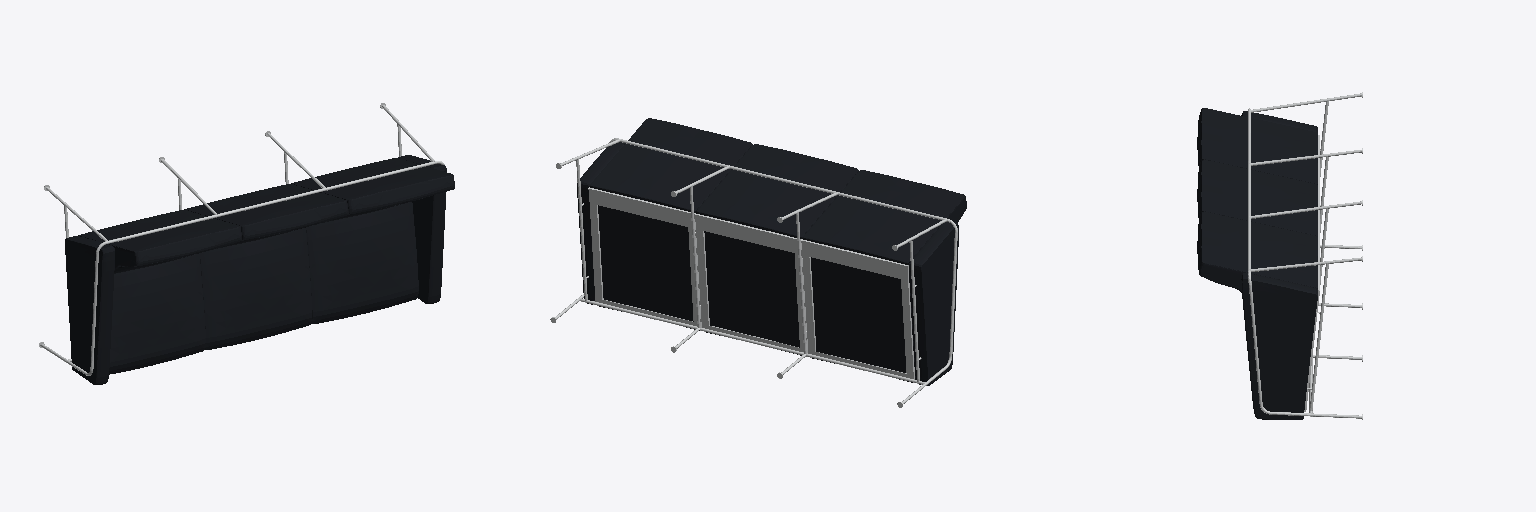
File: Furniture_Sofas-Armchairs_Fritz-Hansen_Series-3300T-3303FullUph.obj
3 renders of one model, left to right at view 1: azimuth 30°, elevation 25°; view 2: azimuth 150°, elevation 25°; view 3: azimuth 270°, elevation 25°, orthographic.
Parts seen in each view (by area): view 1: default; view 2: default; view 3: default.
Part boxes in pixels (x1,y1,x2,y2): default: (39, 103, 454, 384); default: (550, 118, 966, 407); default: (1197, 92, 1362, 419).
Size of the model in its own units: 1808 by 805 by 734.